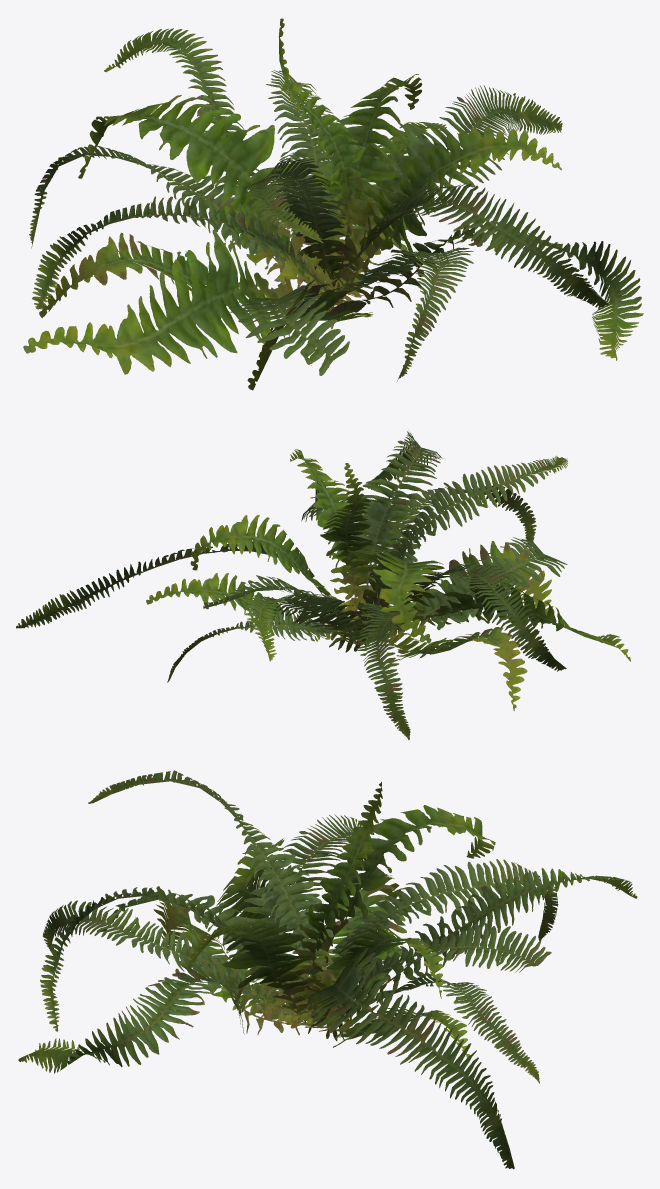
File: plant_fern_clump.glb
3 renders of one model, top to bottom at view 1: azimuth 30°, elevation 25°; view 2: azimuth 150°, elevation 25°; view 3: azimuth 270°, elevation 25°, orthographic. The views are drawn at different scales.
Parts seen in each view (by area): view 1: fern_02_c; view 2: fern_02_c; view 3: fern_02_c.
Part boxes in pixels (<box>): fern_02_c: <box>23,18,643,390</box>; fern_02_c: <box>16,431,630,739</box>; fern_02_c: <box>18,770,637,1169</box>.
Bounding box in the file's own units: 0.8743 × 0.349 × 0.7652.
Materials: 1 (1 with a texture image).
